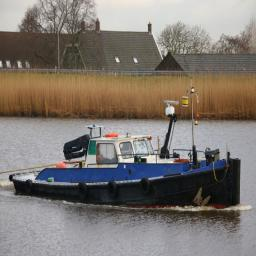tugboat: (8, 99, 244, 217)
